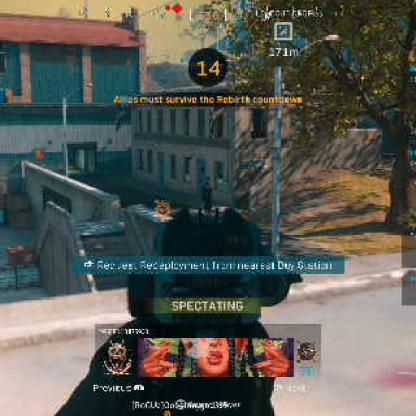enemy: (112, 95, 128, 130), (202, 182, 213, 211)
